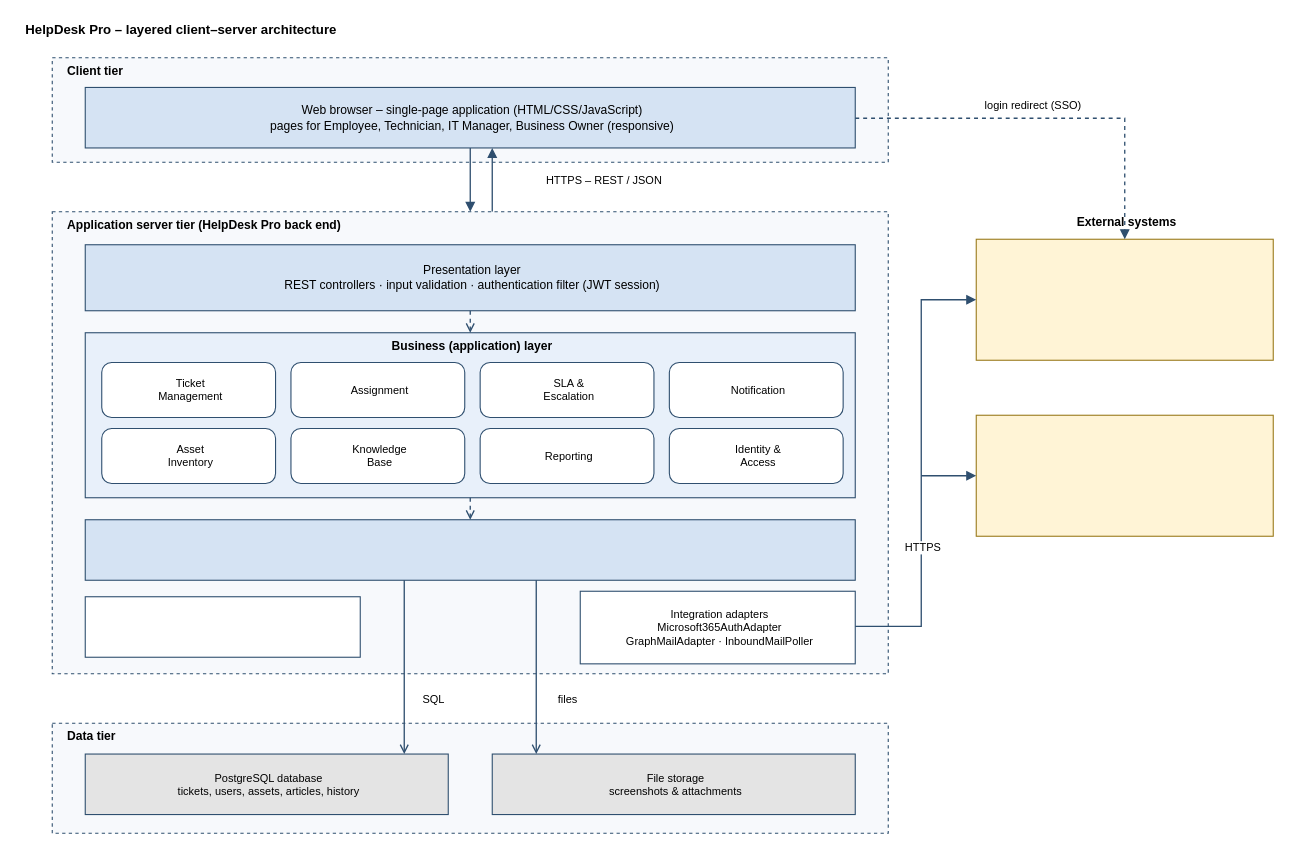
Some shapes in this 1293 by 853 pixel diagram are drawn without their labels. Here are the shapes that lost their labels. From the top down, the centre of each, then its label:
At point (1124, 299): "Microsoft Entra ID (Microsoft 365 accounts) OAuth 2.0 / OpenID Connect".
At point (1124, 475): "Exchange Online via Microsoft Graph API (outgoing + incoming e-mail)".
At point (469, 549): "Data access layer repository interfaces + ORM implementations".
At point (222, 626): "SlaScheduler (background job, every 5 min)".
